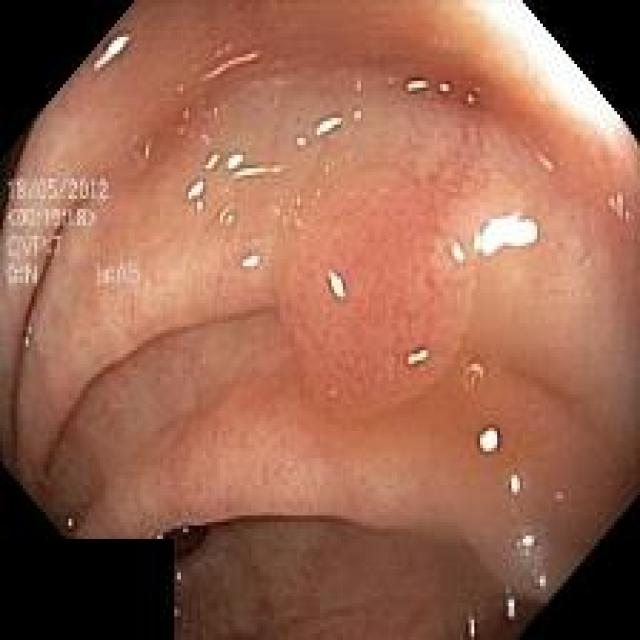Polyps: (275, 171, 475, 419)
